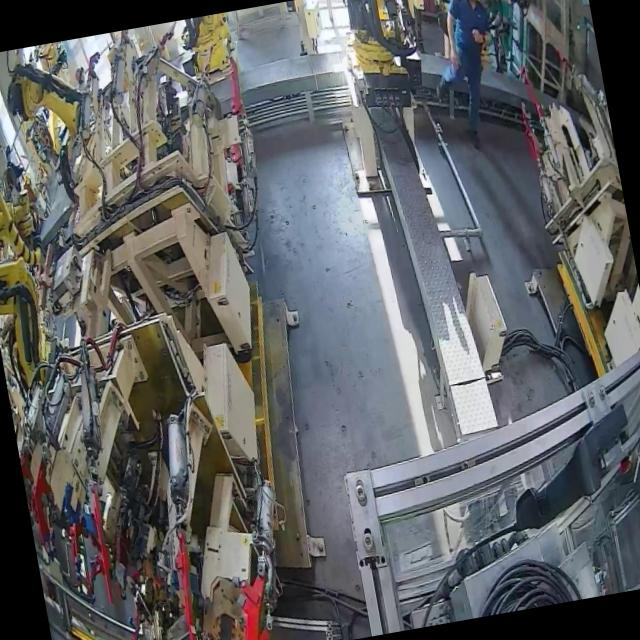Person: (434, 0, 509, 151)
